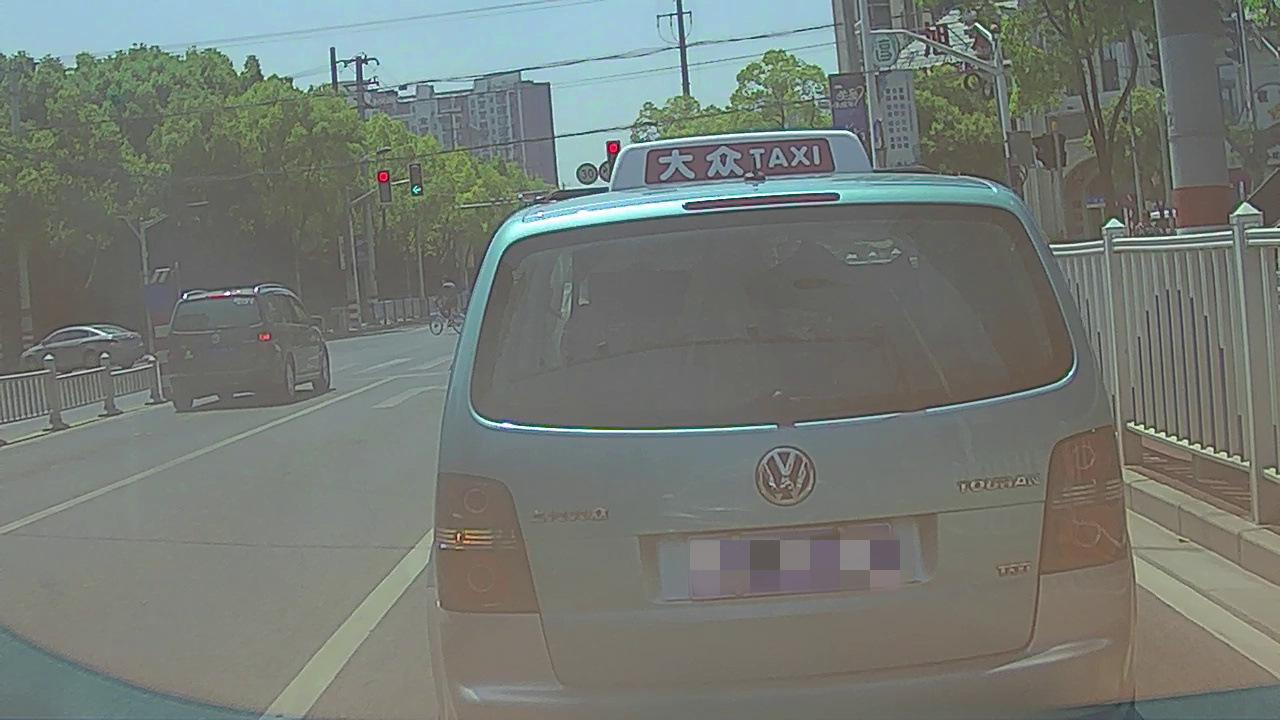traffic_light: (380, 170, 392, 201), (411, 163, 422, 195), (607, 142, 620, 163)
